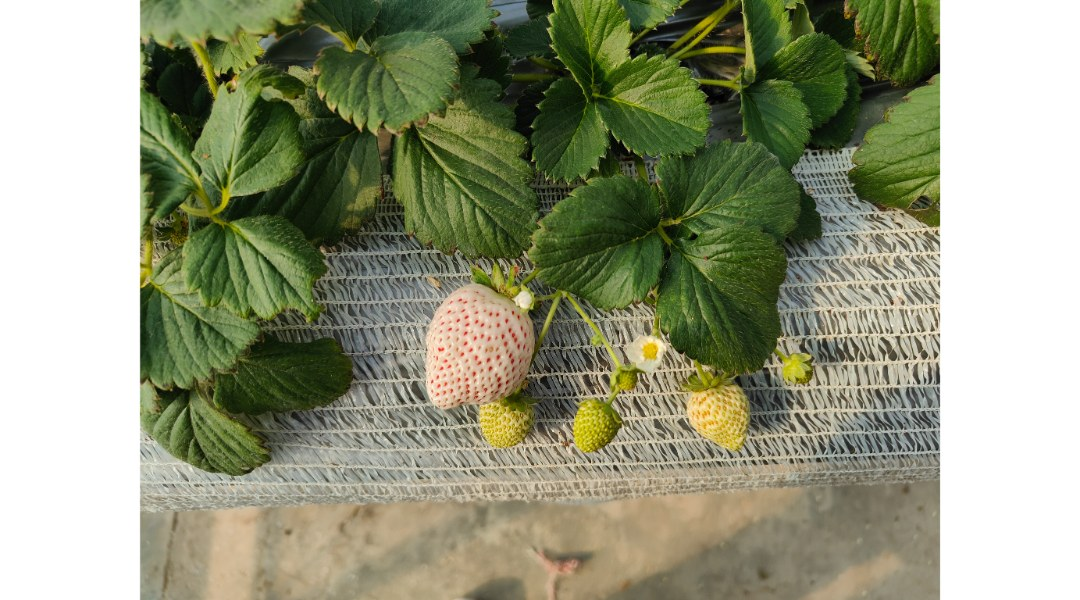berry: (420, 271, 541, 420), (682, 368, 757, 453), (478, 380, 549, 454), (567, 398, 624, 455), (778, 350, 815, 392)
flower: (625, 332, 671, 378)
strain: (568, 303, 618, 366), (542, 307, 559, 352)
